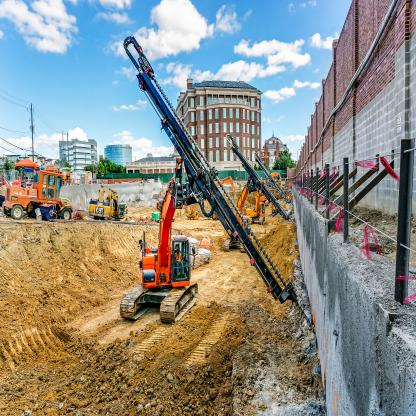excavator: (94, 138, 246, 341)
